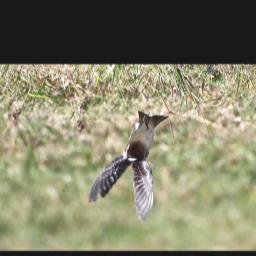Swallow: (88, 111, 169, 223)
